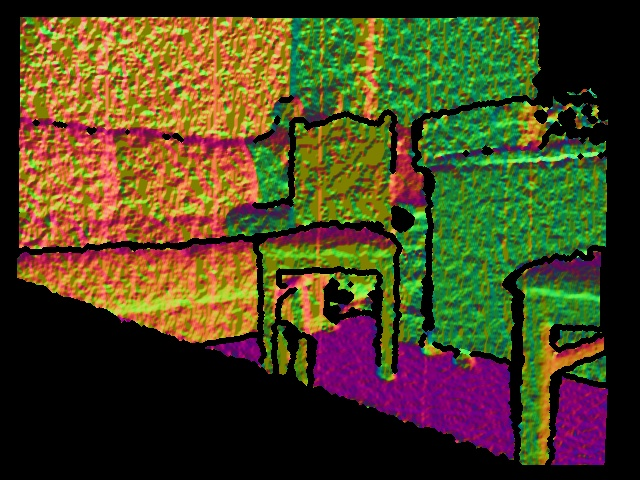station: (271, 323, 313, 390)
